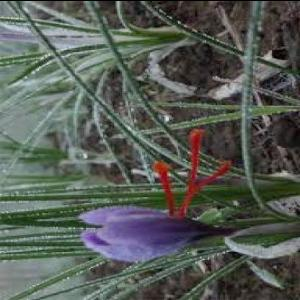Saffron: (76, 206, 230, 260)
